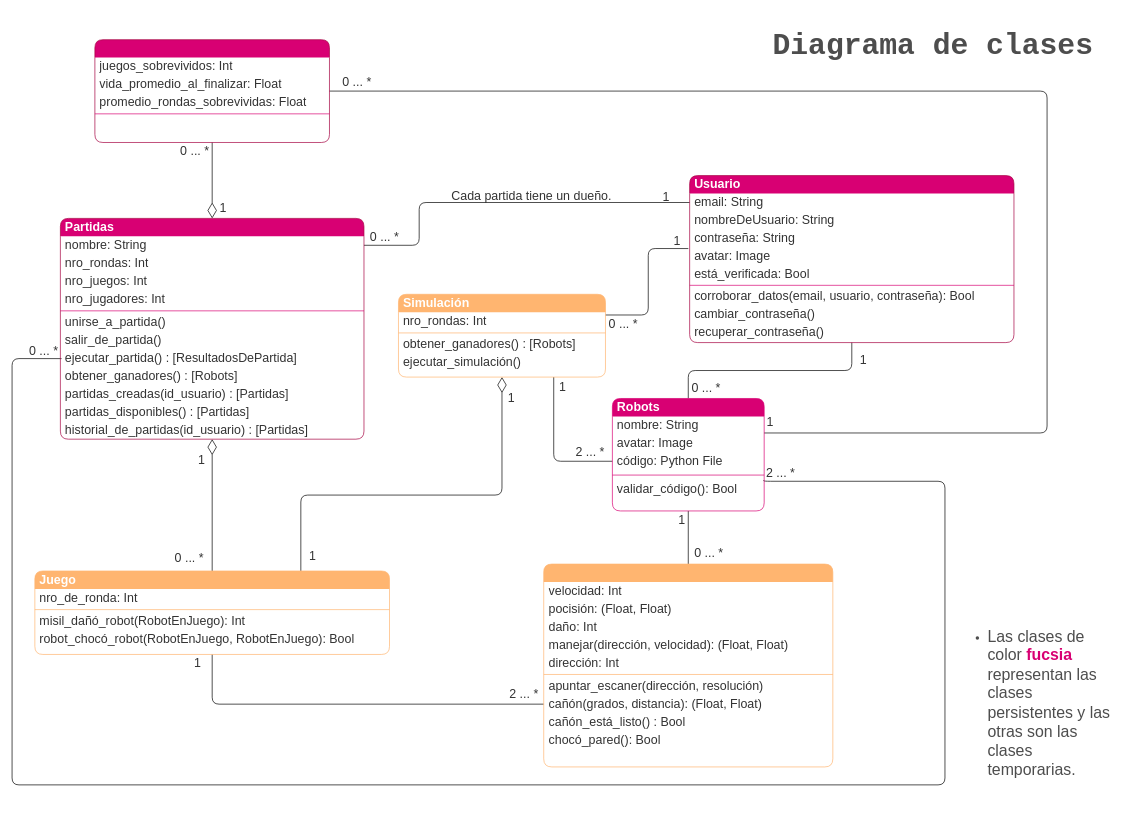
Some shapes in this 1123 by 822 pixel diagram are drawn without their labels. The shapes that lost their labels are listed below. From the top down, each one's box as (x1, y1, x2, y2) in pixels, then its label:
(94, 39, 329, 142): ResultadosDePartida
(543, 563, 833, 767): RobotEnJuego
